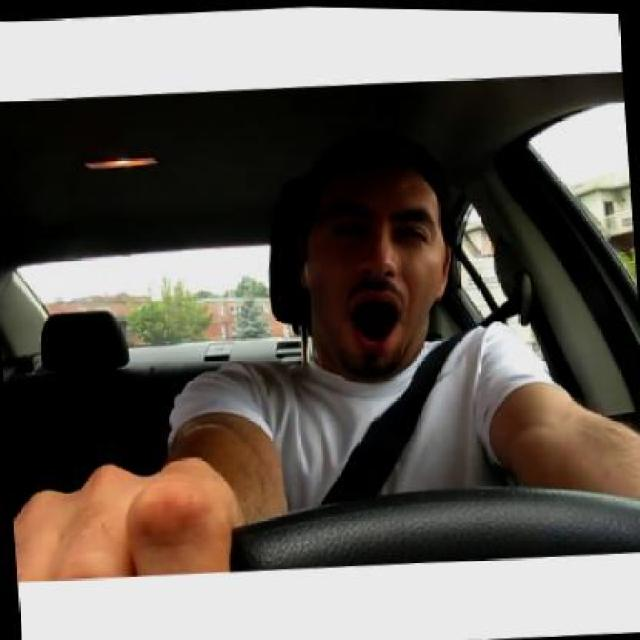inattentif: (290, 120, 462, 385)
